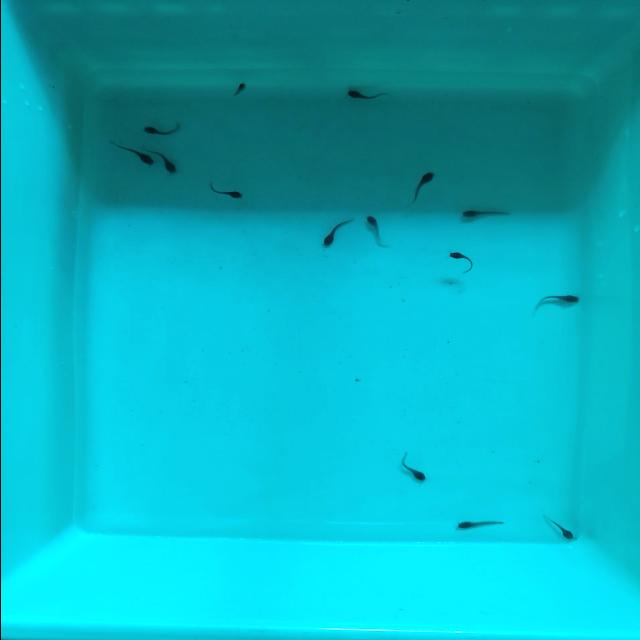lele: (109, 137, 159, 170), (360, 211, 396, 253), (317, 215, 356, 253), (145, 141, 183, 179), (406, 167, 440, 207), (395, 450, 432, 486), (543, 512, 581, 544), (206, 177, 248, 204), (342, 83, 390, 106), (451, 517, 506, 533), (448, 246, 481, 272), (140, 122, 181, 140), (227, 78, 252, 102), (458, 208, 510, 219), (534, 294, 584, 305)
